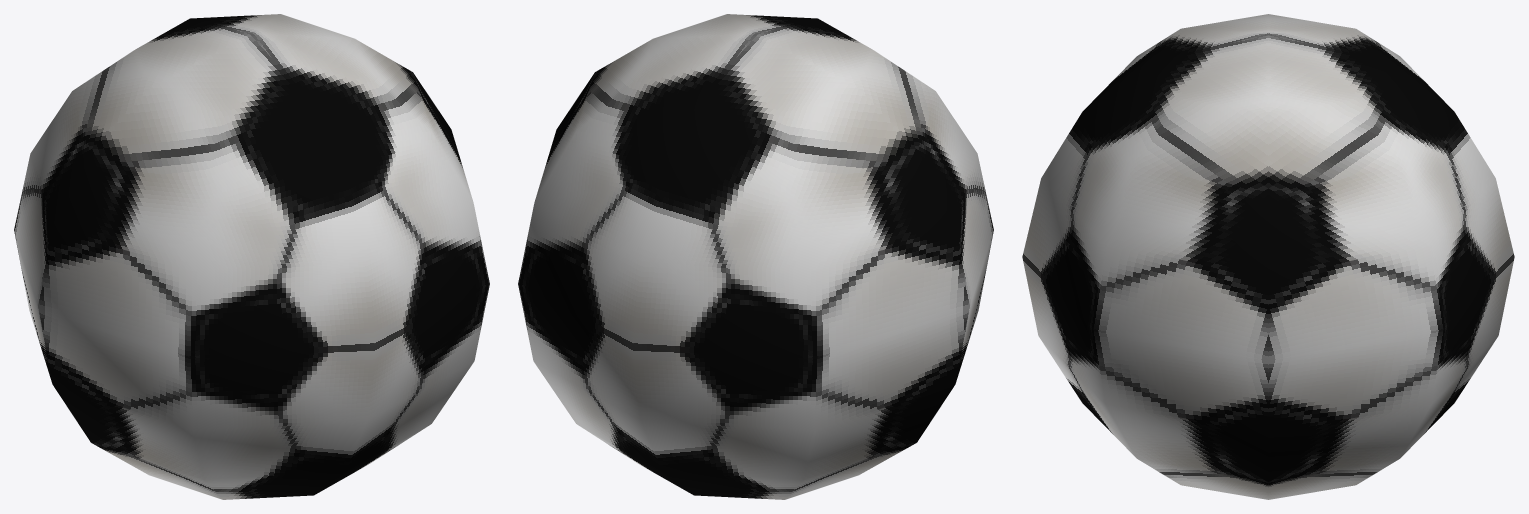
The model's file is a_SWIsport03.glb.
The picture shows the model from 3 angles, left to right: view 1: azimuth 30°, elevation 25°; view 2: azimuth 150°, elevation 25°; view 3: azimuth 270°, elevation 25°; orthographic projection.
Visible parts, largest first — view 1: a_SWIsport03; view 2: a_SWIsport03; view 3: a_SWIsport03.
Part boxes in pixels (<box>): a_SWIsport03: <box>14,14,489,499</box>; a_SWIsport03: <box>518,14,993,499</box>; a_SWIsport03: <box>1022,14,1514,499</box>.
Size of the model in its own units: 0.3347 by 0.3347 by 0.3353.
1 material, 1 textured.
